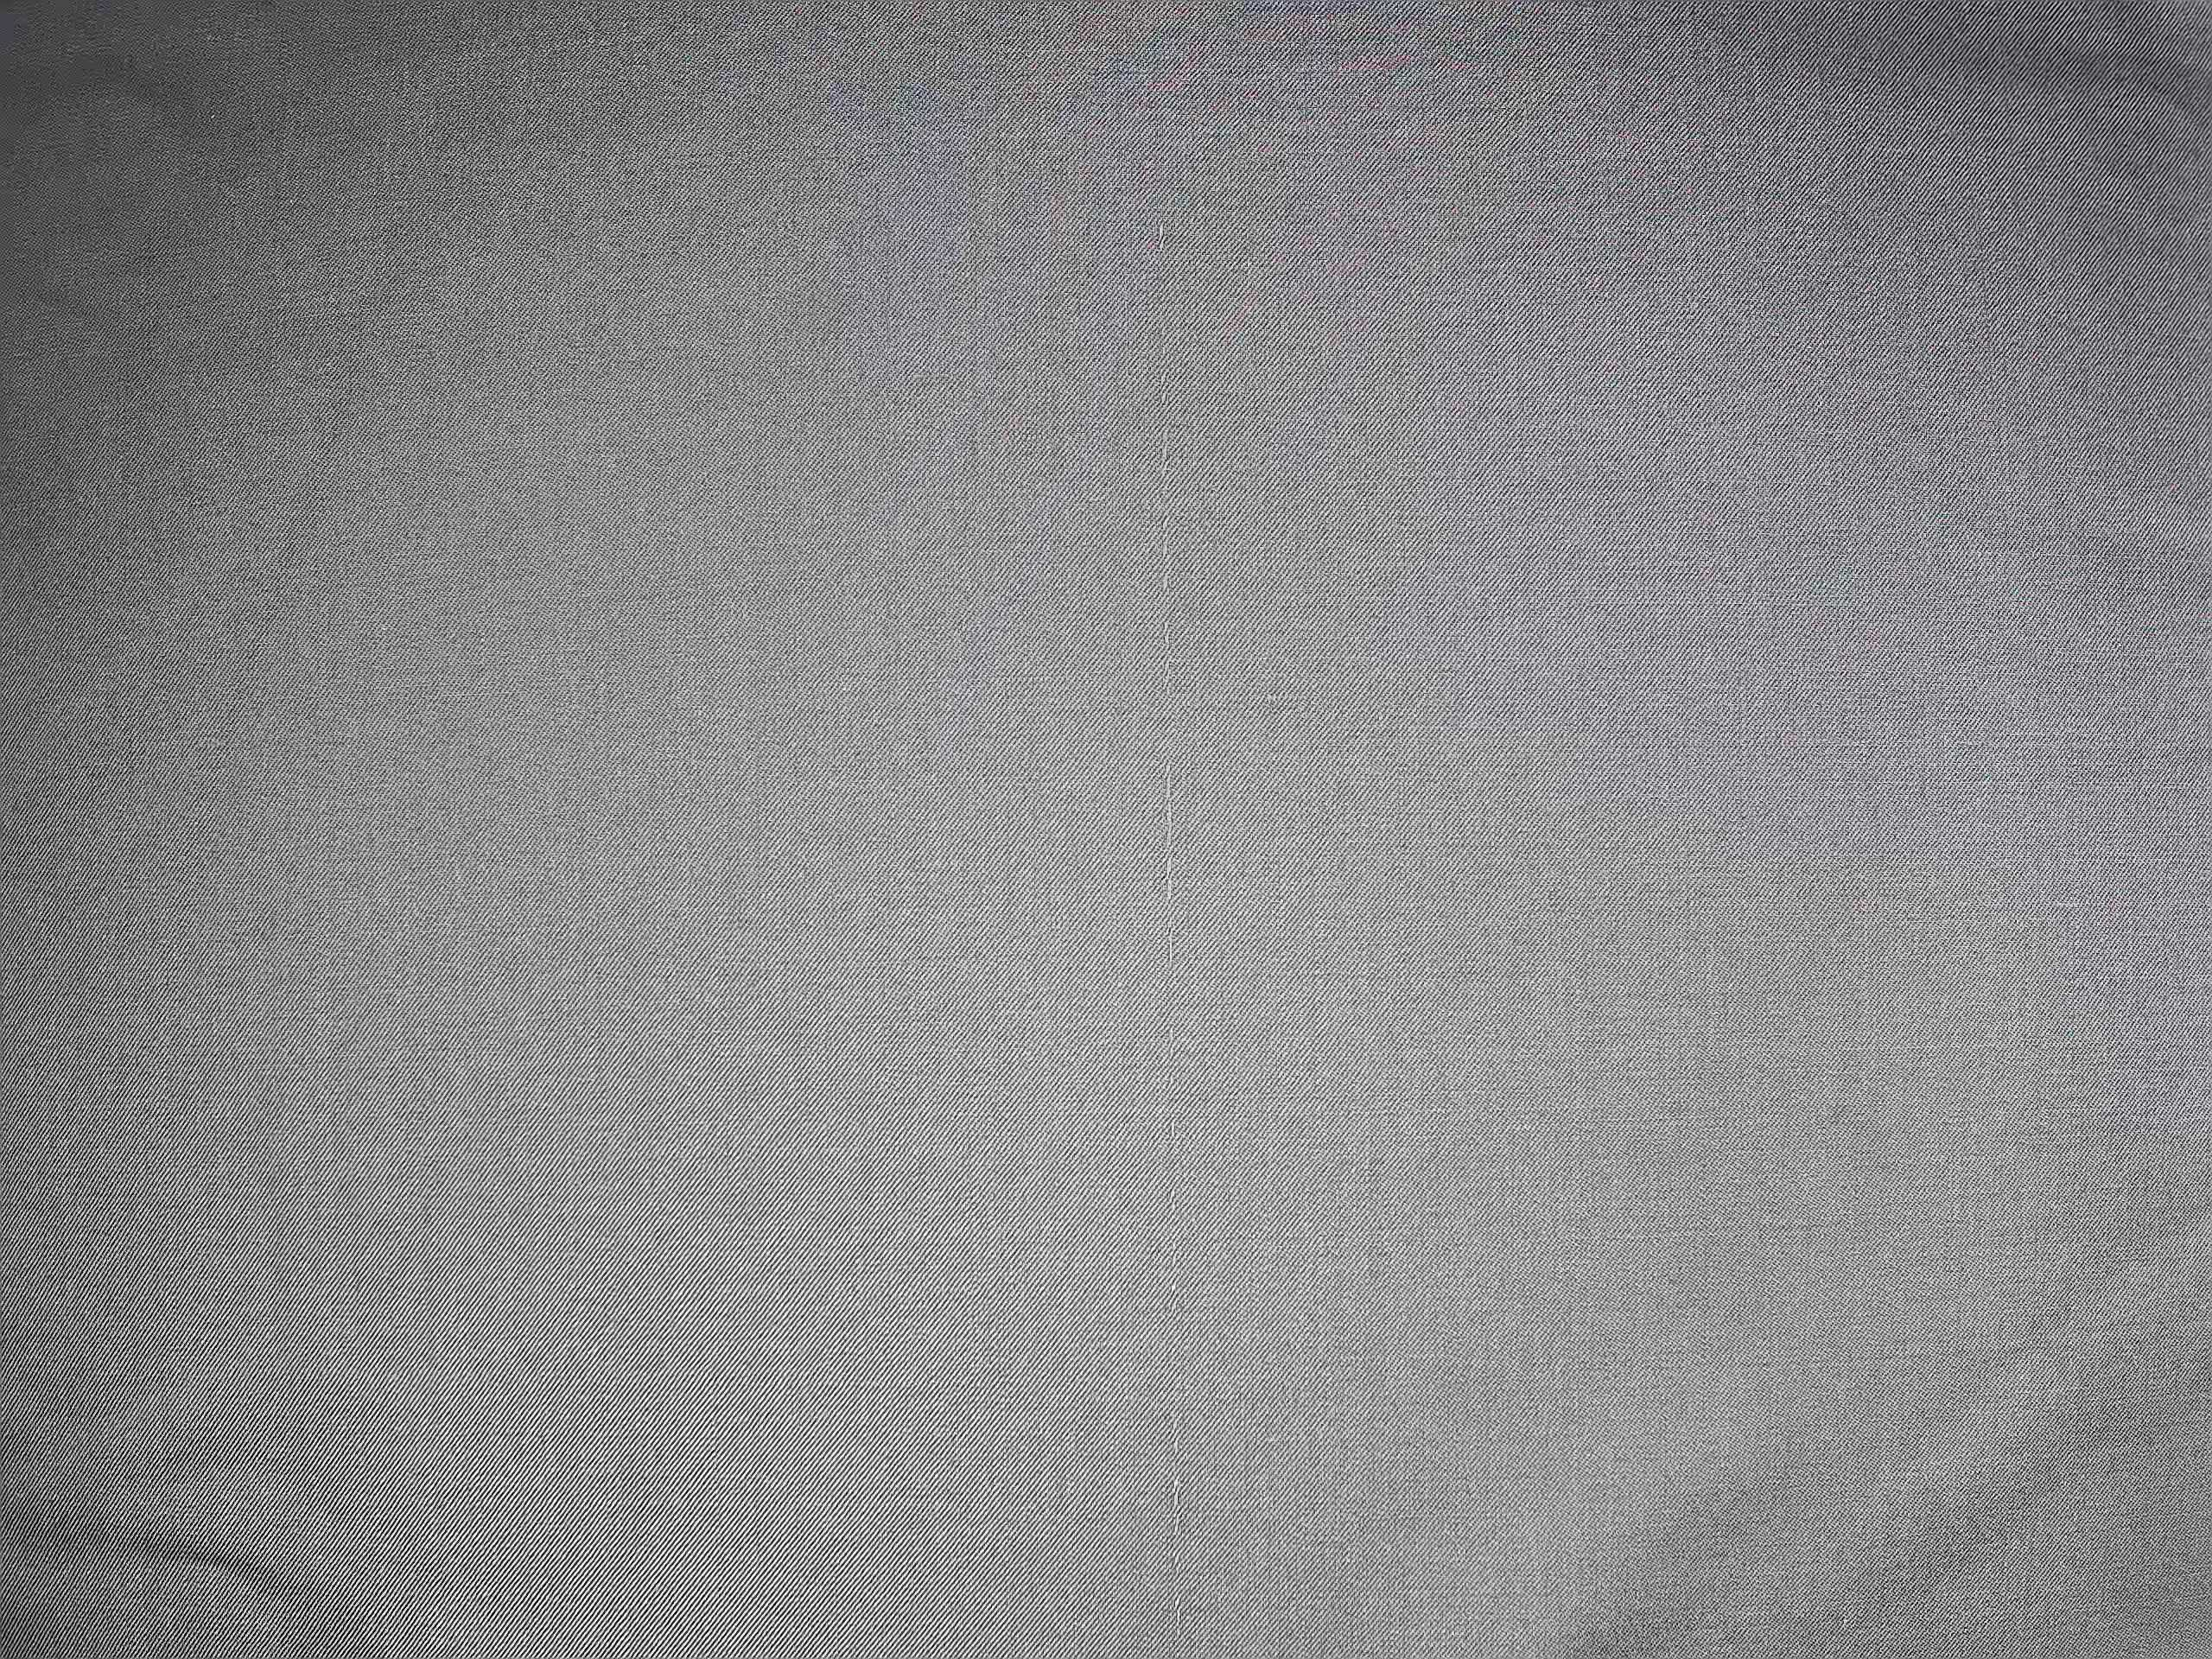jumps: (1128, 178, 1170, 1253)
